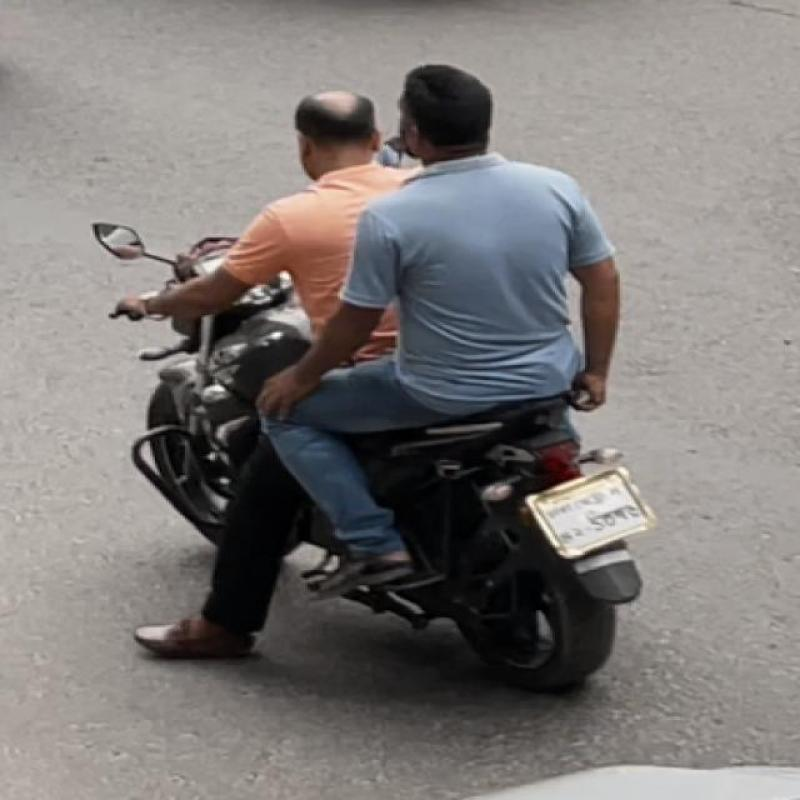nohelmet: (386, 55, 514, 185), (288, 94, 388, 180)
